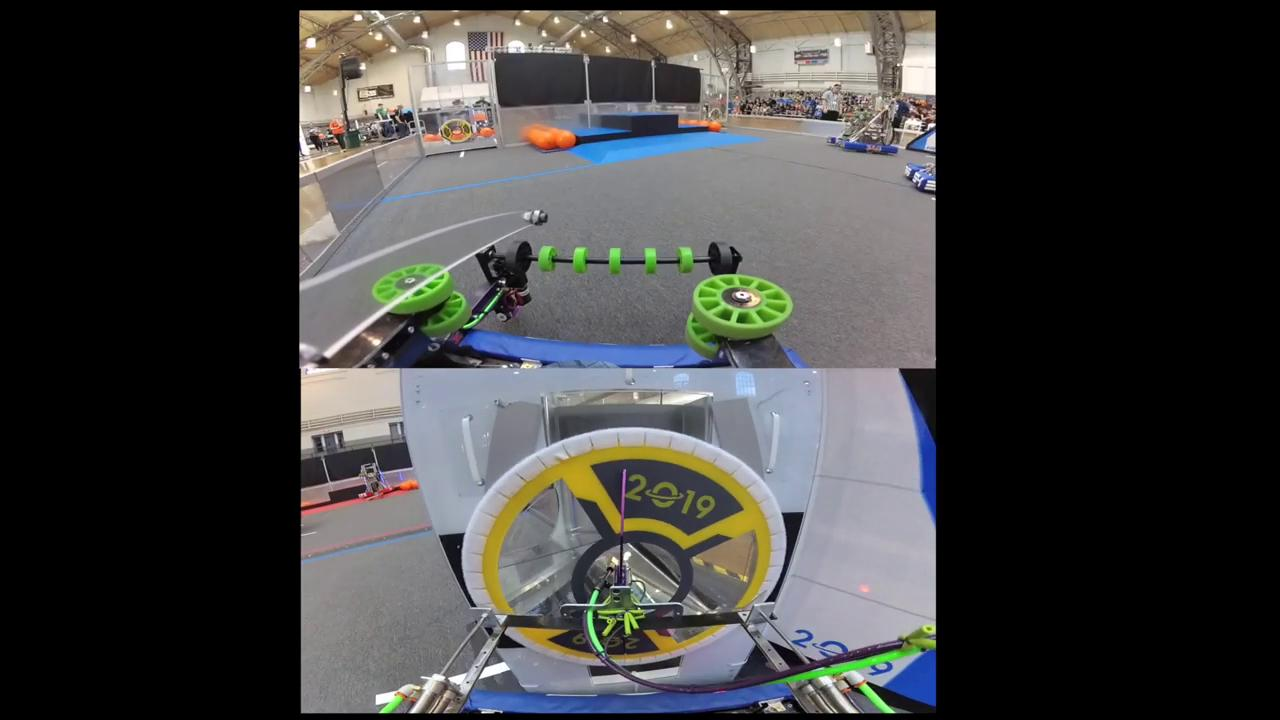robot: (826, 96, 898, 155), (356, 462, 396, 501), (905, 163, 935, 194)
